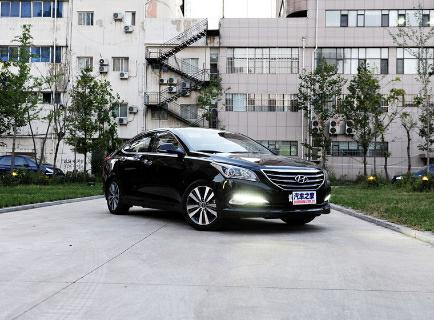现代-名图: (96, 121, 339, 239)
